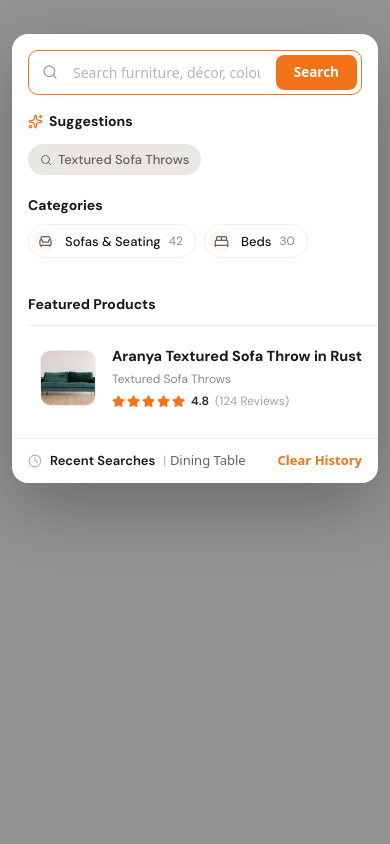
Scenario: SearchModal › clear history empties saved searches
expect the button "Dining Table" is shown: met, box [170,451,246,470]
Step 1. Click the button "Clear History" → x=320, y=461, box [278,451,362,470]
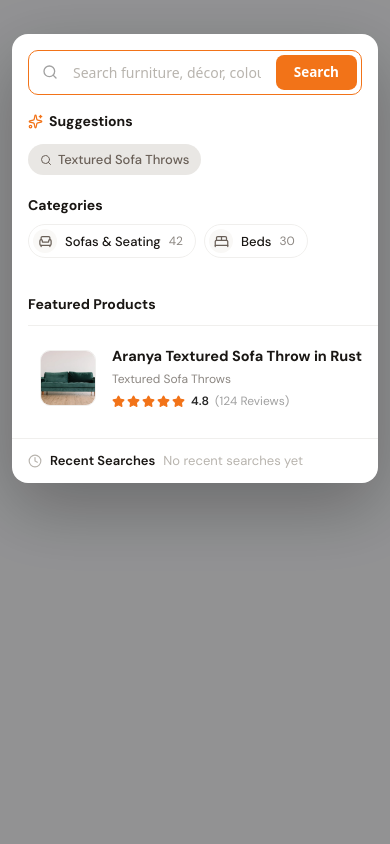
expect the button "Dining Table" is gone: met
